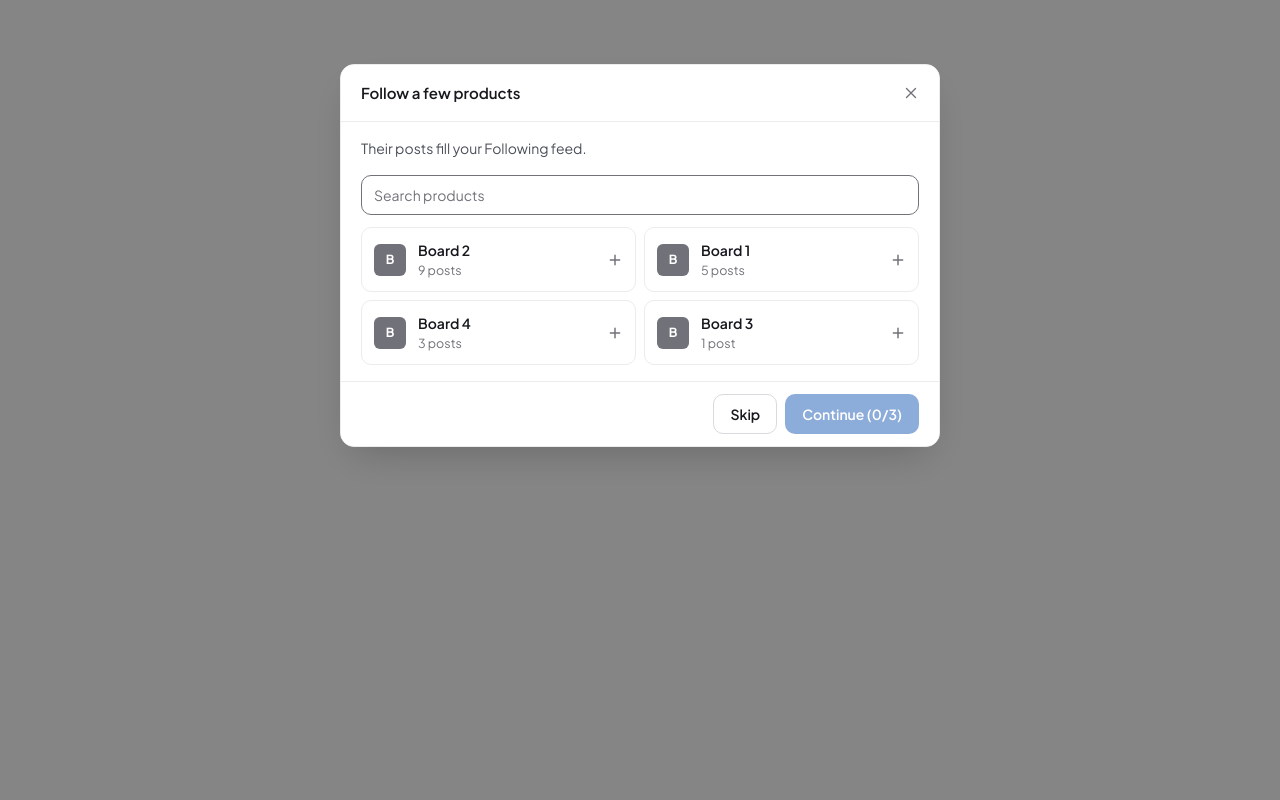
Test case: OnboardingDialog › search filters the list
Check: the button "B Board 1 5 posts" is shown, box x1=644 y1=227 x2=919 y2=292
In the search field labelled "Search products": (640, 195) x1=361 y1=175 x2=919 y2=215, type "tagline 4"
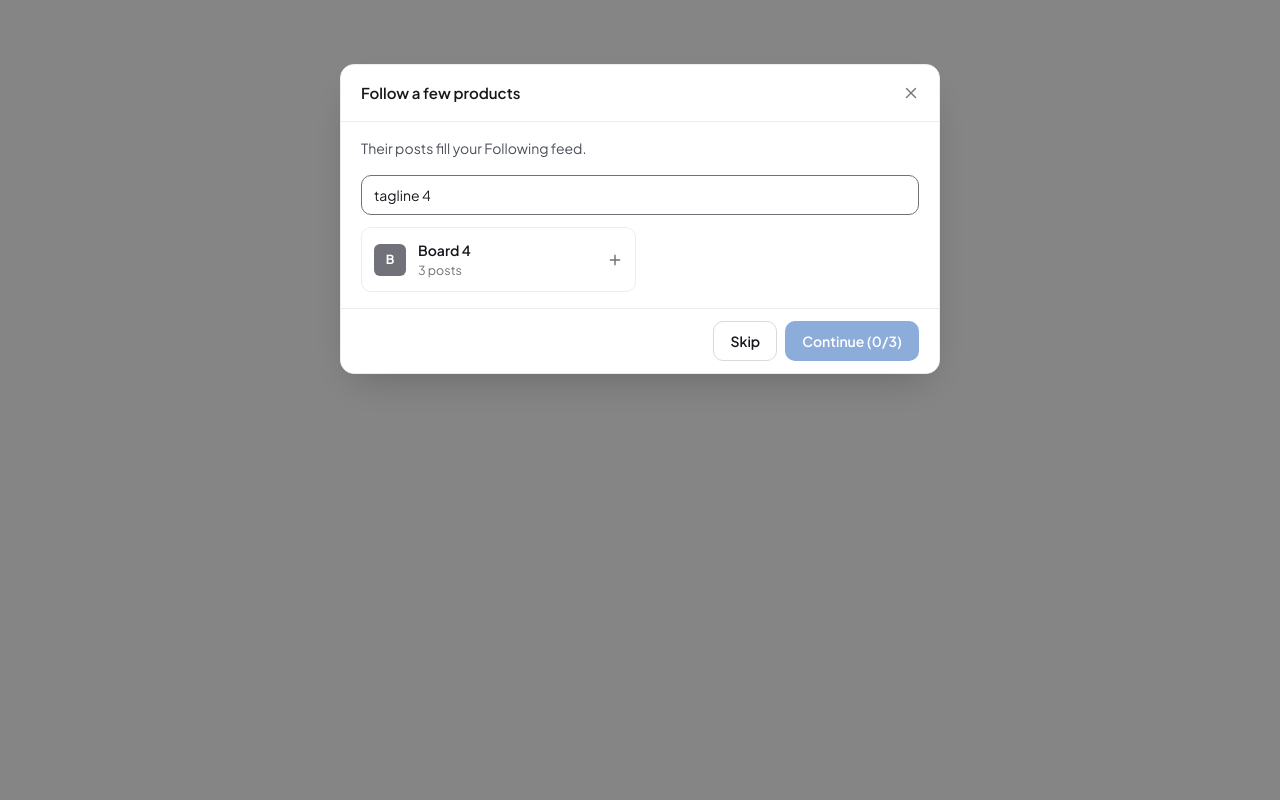
Replace the text in the search field named "Search products" with "zzz": (640, 195) x1=361 y1=175 x2=919 y2=215
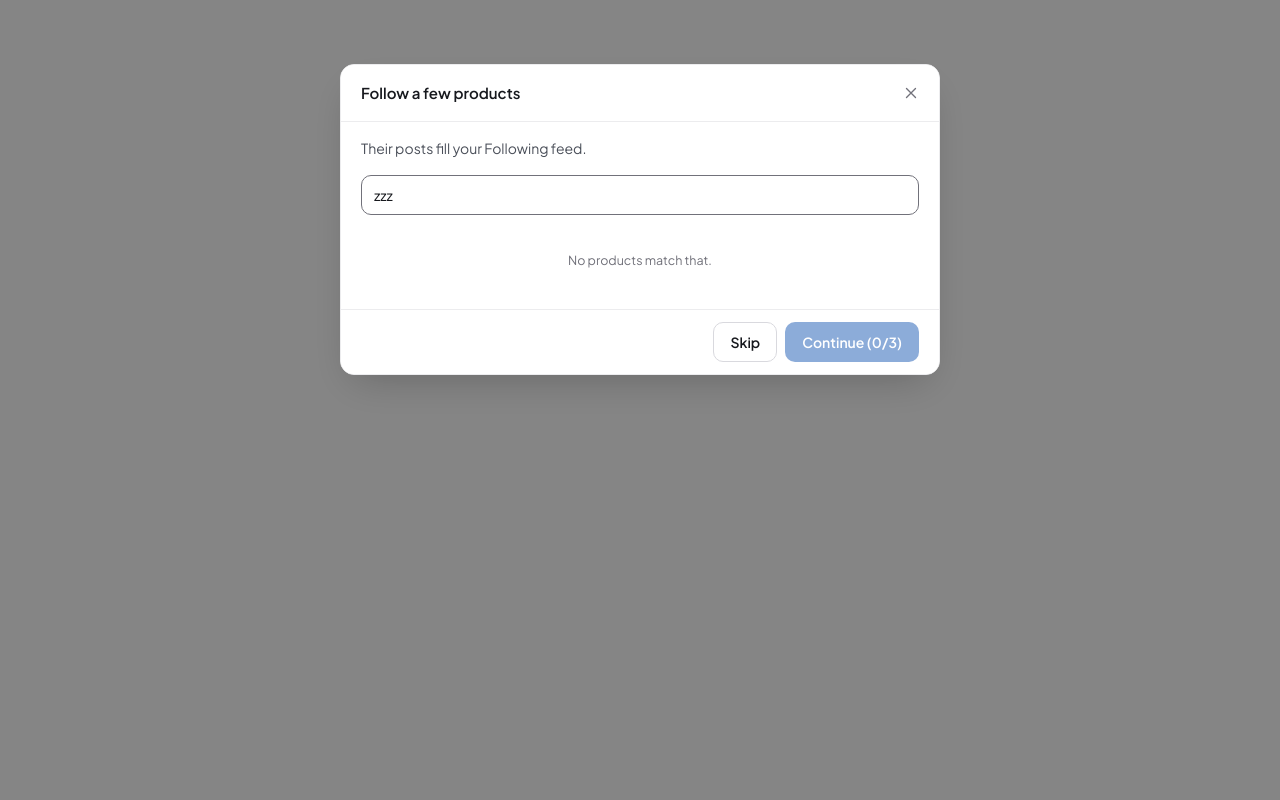
Check: the text "No products match that." is shown, box x1=568 y1=252 x2=712 y2=268
